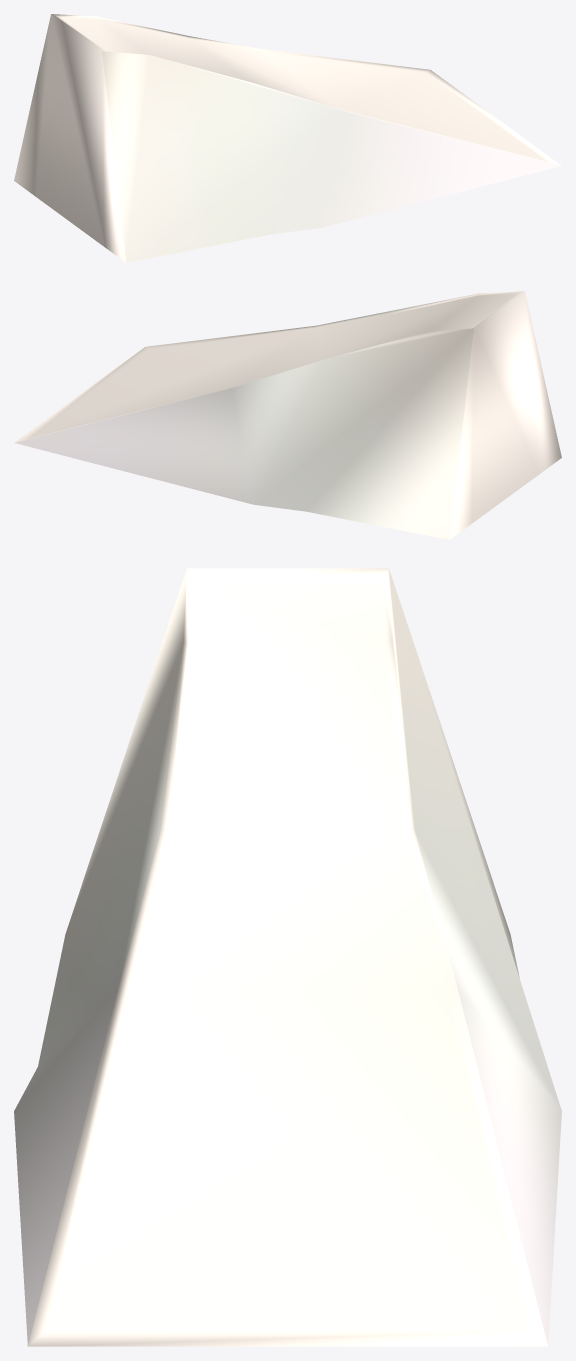
File: SnowmobileTrackJumpNarrowLanding.glb
3 views of the same model, one above another, from view 1: azimuth 30°, elevation 25°; view 2: azimuth 150°, elevation 25°; view 3: azimuth 270°, elevation 25° (orthographic). The views are drawn at different scales.
Parts seen in each view (by area): view 1: SnowmobileTrackJumpNarrowLanding; view 2: SnowmobileTrackJumpNarrowLanding; view 3: SnowmobileTrackJumpNarrowLanding.
Part boxes in pixels (x1=…): SnowmobileTrackJumpNarrowLanding: x1=14, y1=14, x2=561, y2=262; SnowmobileTrackJumpNarrowLanding: x1=14, y1=291, x2=561, y2=539; SnowmobileTrackJumpNarrowLanding: x1=14, y1=568, x2=561, y2=1346.
Bounding box in the file's own units: 7.5 × 3.16 × 4.21.
Materials: 1 (1 with a texture image).
